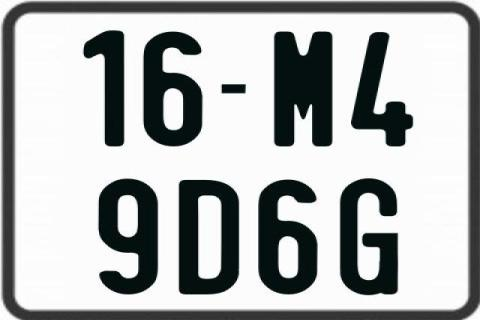0: (97, 176, 162, 294), (143, 30, 207, 148), (350, 32, 414, 146), (256, 178, 316, 296), (82, 29, 123, 145)
D: (178, 178, 242, 296)
G: (340, 179, 400, 297)
M: (274, 31, 338, 149)
